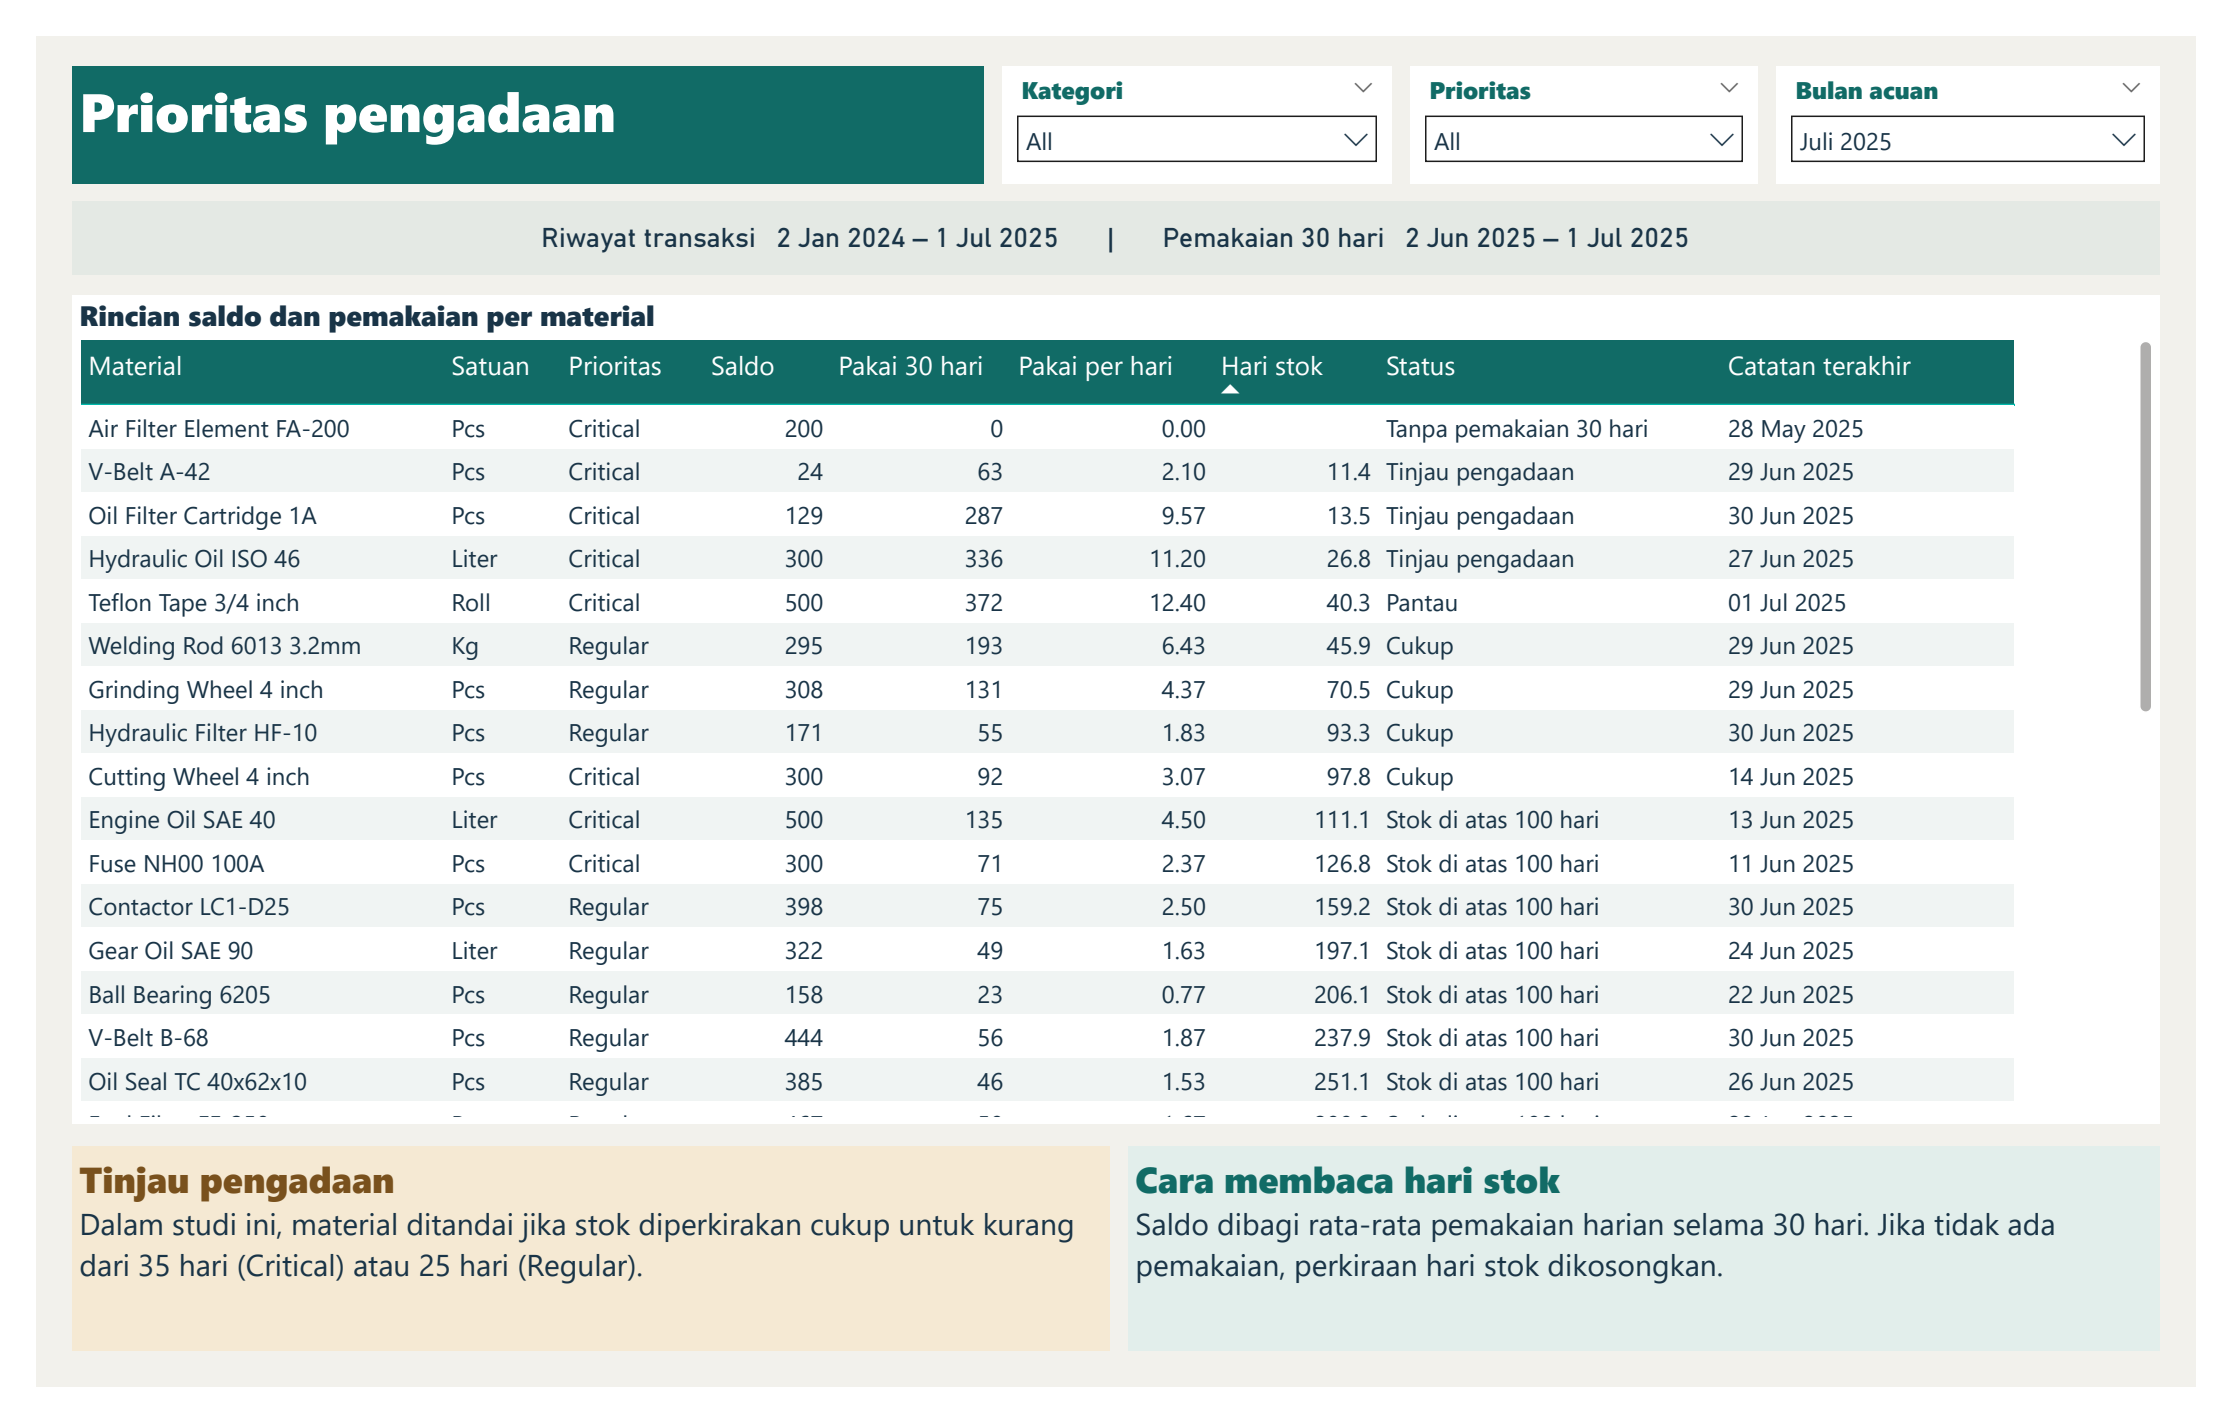

Layout of this report page (visuals, bound fields, positions):
{"tool":"powerbi","page":{"name":"Prioritas pengadaan","canvas":[1440,900],"ordinal":1},"visuals":[{"type":"textbox","box":[24,20,608,78],"z":8},{"type":"slicer","fields":{"Values":["Item.Category"]},"box":[644,20,260,78],"z":10},{"type":"slicer","fields":{"Values":["Item.Priority"]},"box":[916,20,232,78],"z":11},{"type":"slicer","fields":{"Values":["ReportingDate.Bulan"]},"box":[1160,20,256,78],"z":12},{"type":"card","fields":{"Values":["Item.Period Label"]},"box":[24,110,1392,49],"z":13},{"type":"tableEx","title":"Rincian saldo dan pemakaian per material","fields":{"Values":["Item.ItemName","Item.Unit","Item.Priority","Item.Current Stock","Item.Issued 30D","Item.Daily Use 30D","Item.Coverage Days","Item.Stock Status","Item.Last Transaction"]},"box":[24,173,1392,552],"z":30},{"type":"textbox","box":[24,740,692,136],"z":31},{"type":"textbox","box":[728,740,688,136],"z":32}]}

Visuals, with their boxes in screenshot pixels (x1, y1, x2, y2), scaled from the page's 1440x900 canvas onto the 2232x1423 screenshot:
textbox: box=[37, 32, 980, 155]
slicer - Item.Category: box=[998, 32, 1401, 155]
slicer - Item.Priority: box=[1420, 32, 1779, 155]
slicer - ReportingDate.Bulan: box=[1798, 32, 2195, 155]
card - Item.Period Label: box=[37, 174, 2195, 251]
"Rincian saldo dan pemakaian per material" tableEx: box=[37, 274, 2195, 1146]
textbox: box=[37, 1170, 1110, 1385]
textbox: box=[1128, 1170, 2195, 1385]
